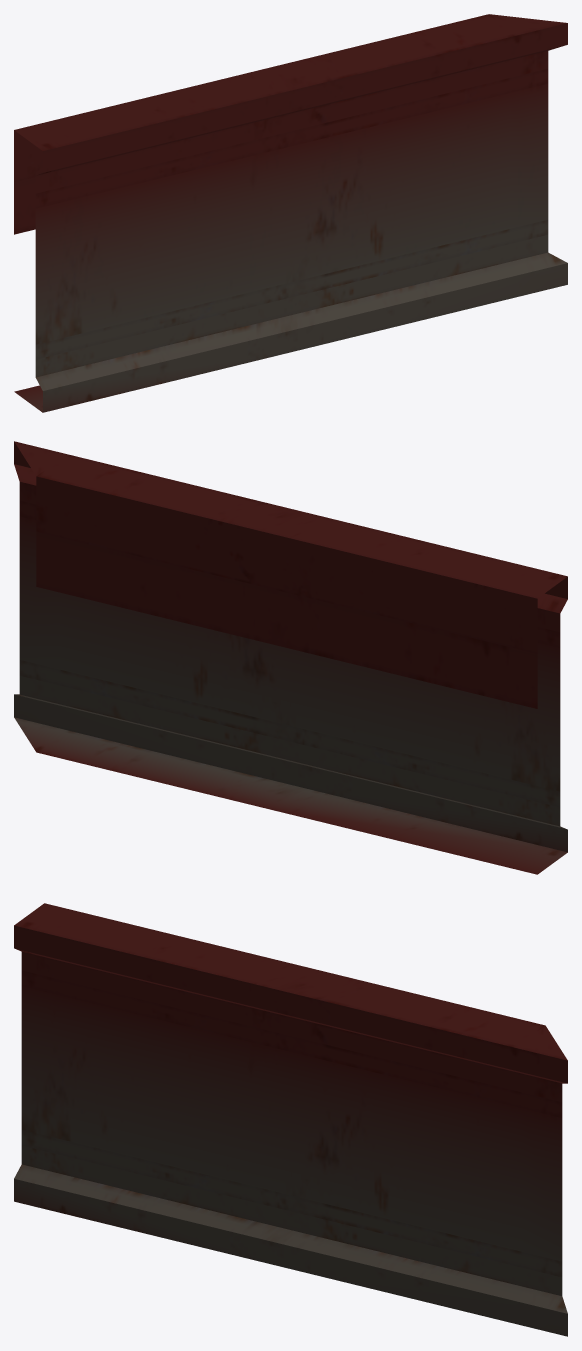
Rendered from cornice_metal_r.glb.
3 renders of one model, top to bottom at view 1: azimuth 30°, elevation 25°; view 2: azimuth 150°, elevation 25°; view 3: azimuth 330°, elevation 25°, orthographic. The views are drawn at different scales.
Visible parts, largest first — view 1: Cornice_Metal_R; view 2: Cornice_Metal_R; view 3: Cornice_Metal_R.
Part boxes in pixels (left/top/right/bottom): Cornice_Metal_R: left=14, top=14, right=567, bottom=412; Cornice_Metal_R: left=14, top=441, right=567, bottom=874; Cornice_Metal_R: left=14, top=903, right=567, bottom=1336.
Size of the model in its own units: 2.1 by 1 by 0.2.
Materials: 1 (1 with a texture image).
